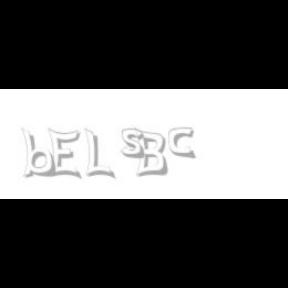B: (134, 128, 168, 178)
E: (48, 128, 80, 180)
L: (85, 128, 113, 180)
b: (21, 128, 59, 178)
c: (168, 128, 198, 160)
s: (121, 128, 149, 160)
